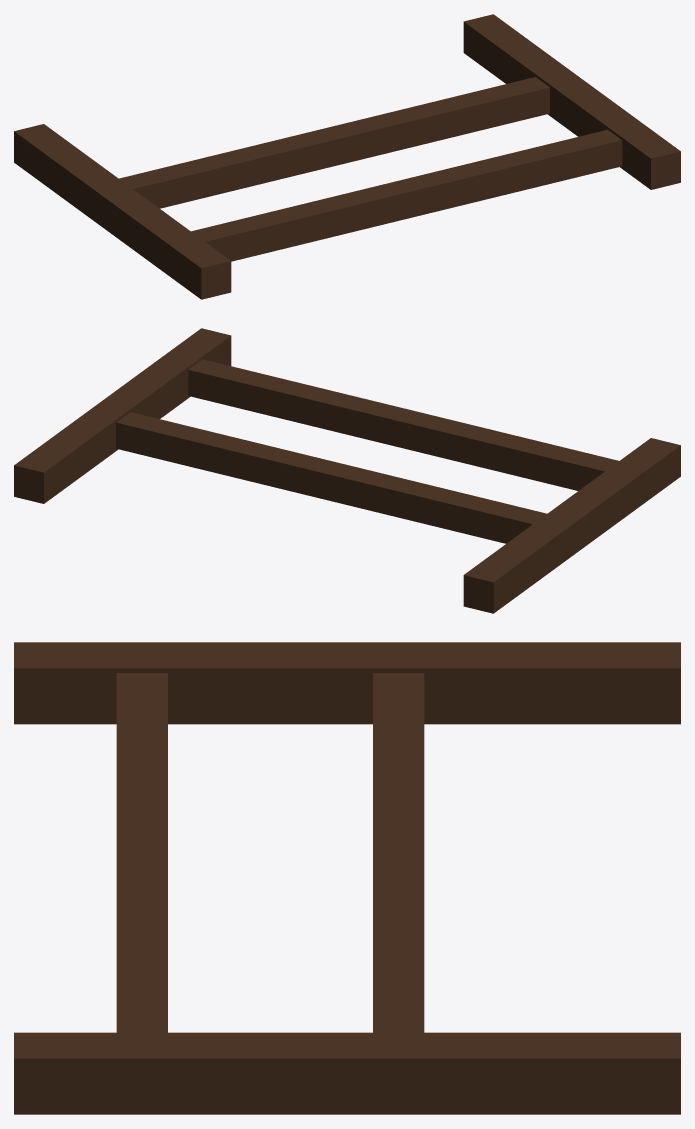
The model's file is SM_BreeStableRail.obj.
The picture shows the model from 3 angles, top to bottom: view 1: azimuth 30°, elevation 25°; view 2: azimuth 150°, elevation 25°; view 3: azimuth 270°, elevation 25°; orthographic projection. The views are drawn at different scales.
Visible parts, largest first — view 1: SM_BreeStableRail; view 2: SM_BreeStableRail; view 3: SM_BreeStableRail.
Part boxes in pixels (x1,y1,x2,y2): SM_BreeStableRail: (14, 14, 680, 299); SM_BreeStableRail: (14, 328, 680, 613); SM_BreeStableRail: (14, 642, 680, 1114).
Size of the model in its own units: 192 by 12 by 130.
